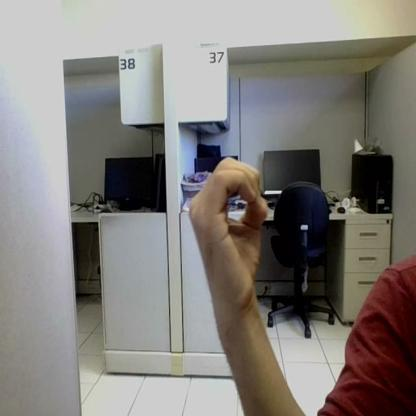O: (189, 158, 267, 301)
